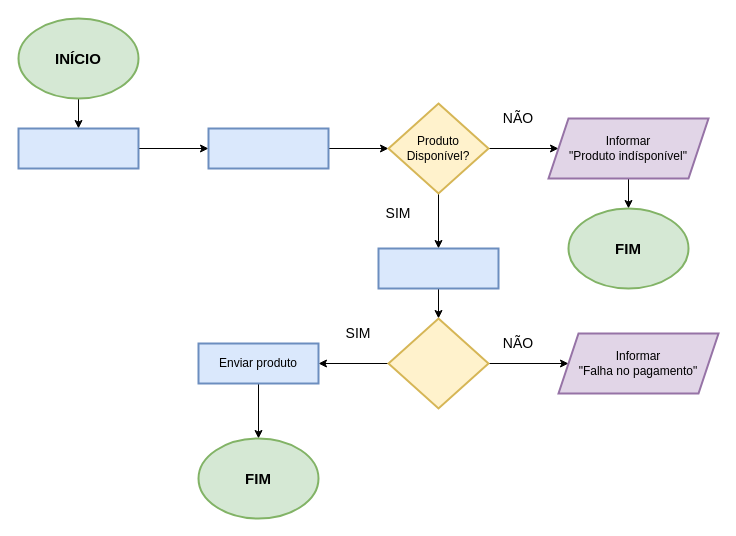
The diagram is 736 pixels wide and 536 high, and some of its shapes have lost their labels. The centre of each missing label's shape, as x and y in pixels:
Cliente faz pedido: (x=78, y=148)
Pagamento aprovado?: (x=438, y=363)
Processar pagamento: (x=438, y=268)
Sistema verifica o estoque: (x=268, y=148)
